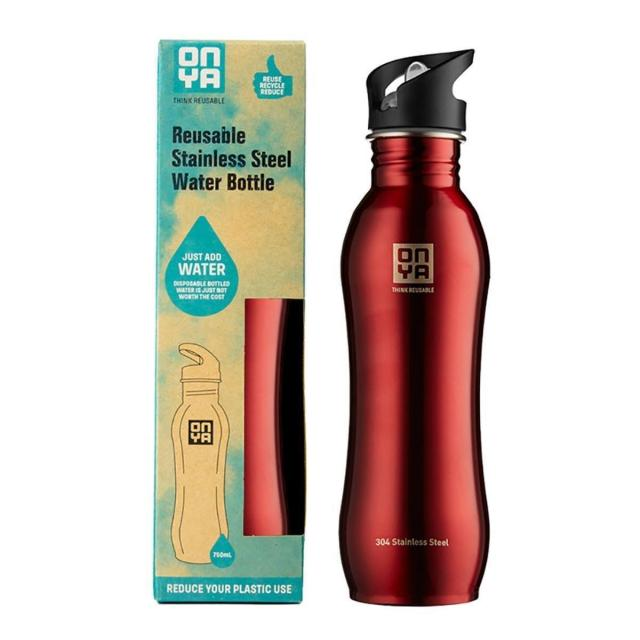gym bottle: (335, 45, 495, 608)
